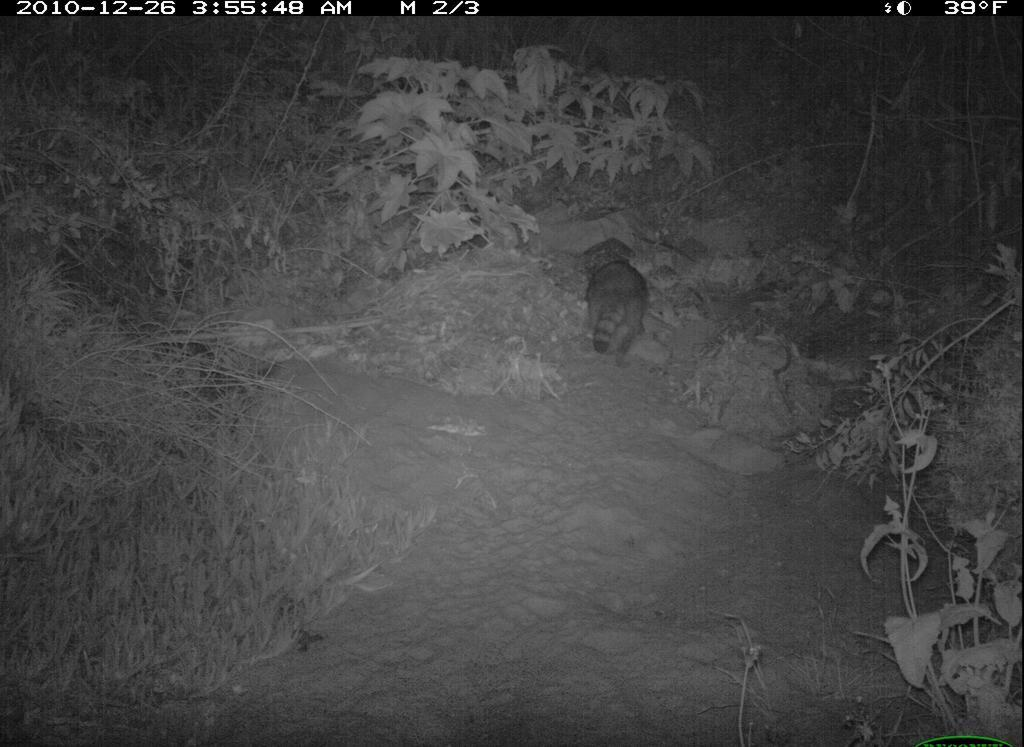raccoon: (584, 257, 657, 376)
